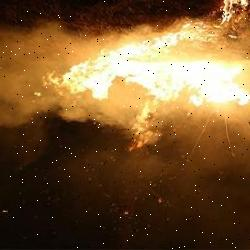fire: (64, 37, 250, 117)
